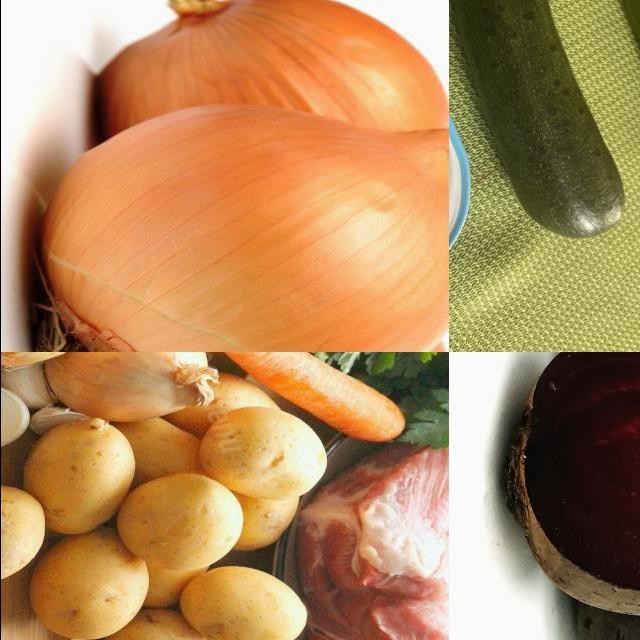beet: (503, 353, 640, 640)
carrot: (282, 353, 399, 438)
garlic: (1, 380, 26, 462)
onion: (39, 104, 449, 353), (91, 1, 449, 155)
potato: (38, 426, 134, 528), (43, 539, 138, 631), (128, 482, 228, 567), (219, 415, 309, 499), (200, 565, 298, 640), (1, 490, 33, 577), (102, 618, 208, 640)
zucchini: (489, 1, 626, 241)
